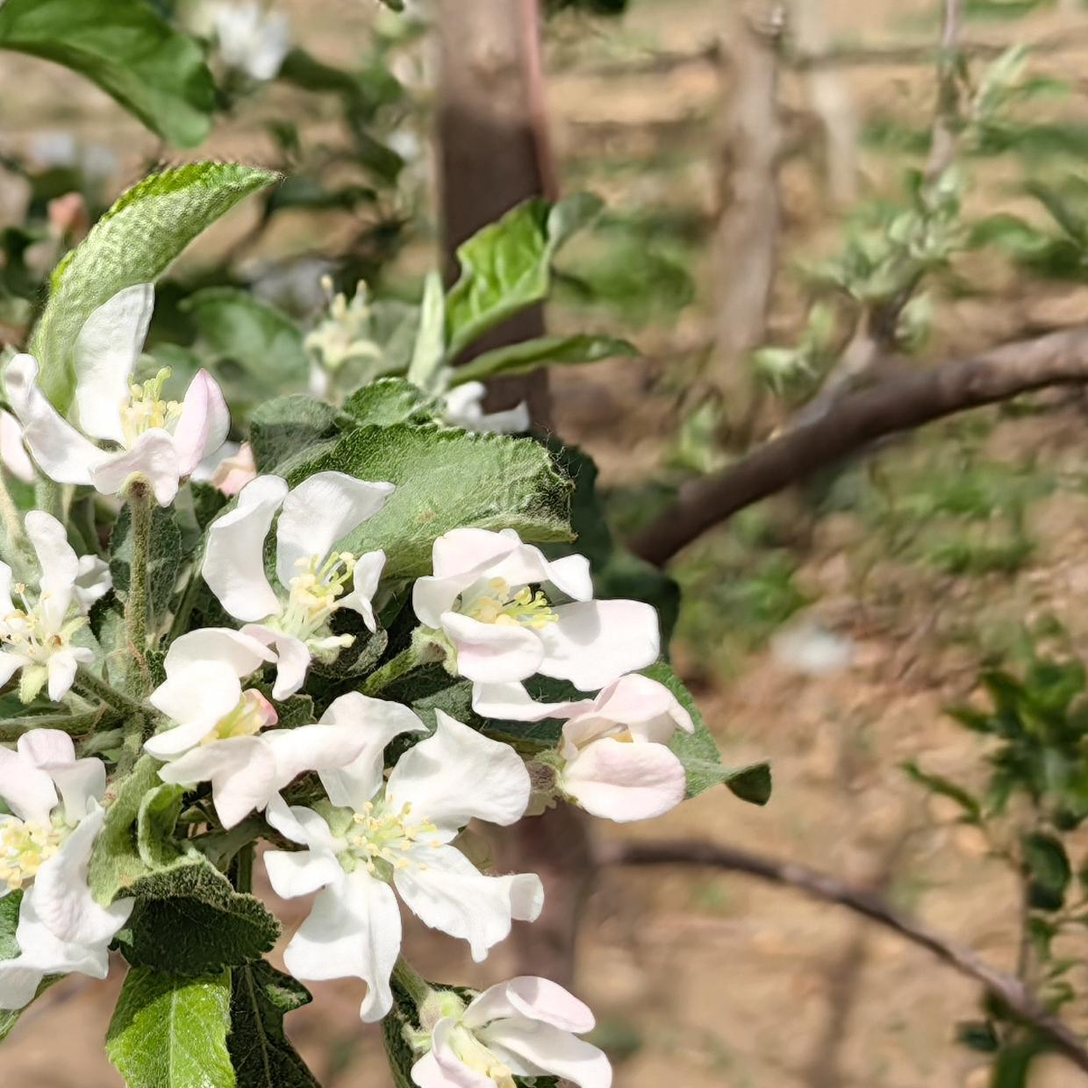apple_flower: (0, 300, 688, 1021), (414, 986, 605, 1088)
